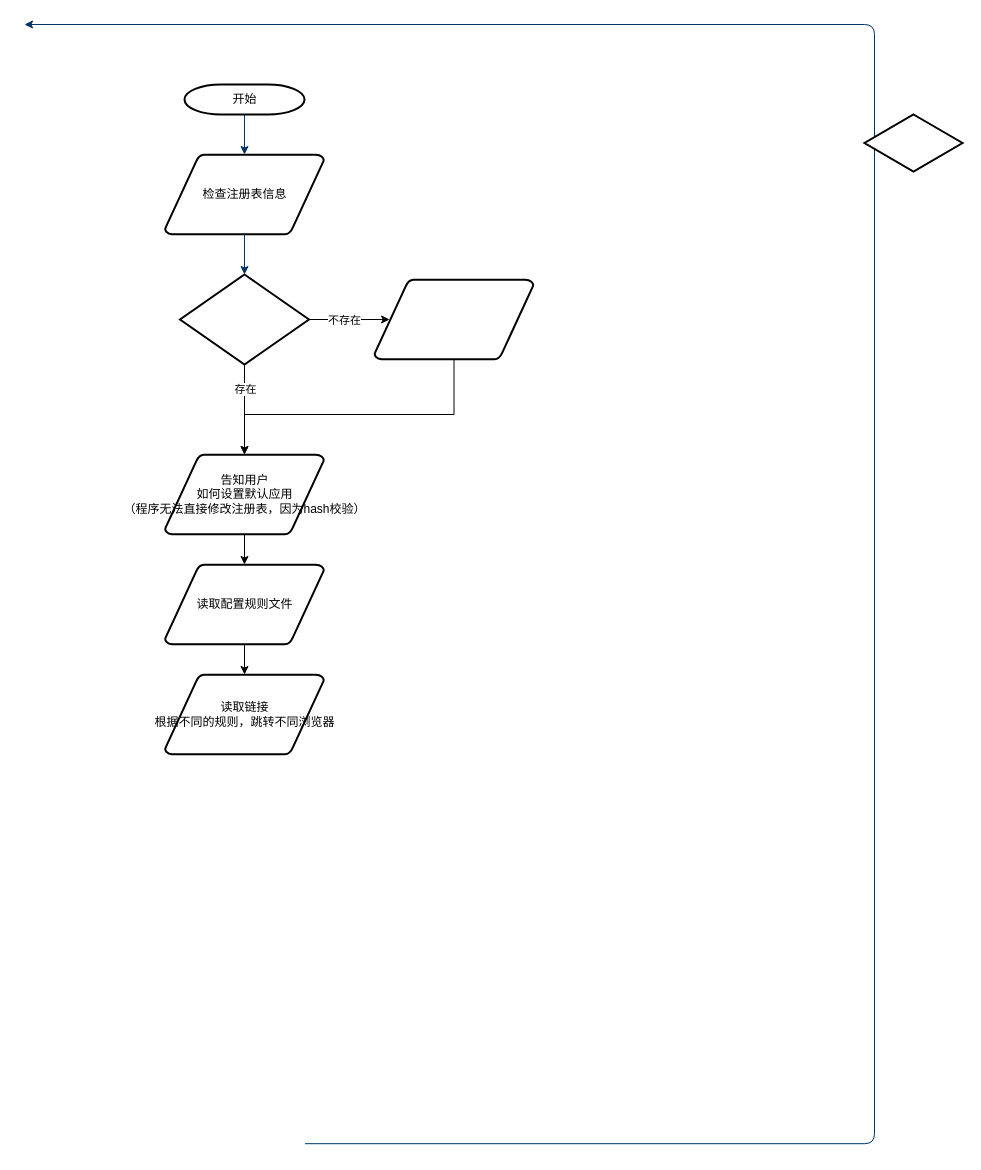
Image size: 981x1170. Some labels were removed from this diagram. Each missing label, with the box of its shape:
obscurities?: (863, 113, 963, 172)
在注册表中进行注册: (373, 278, 534, 360)
当前程序在注册表中 是否存在: (178, 273, 310, 365)
